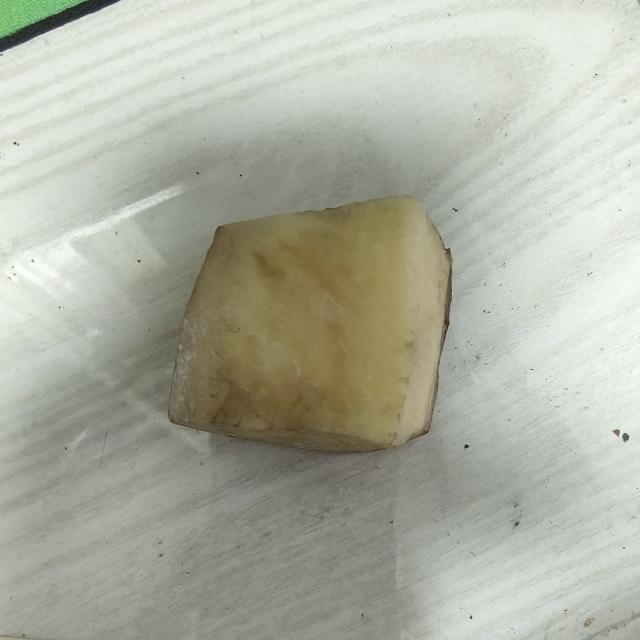-Kitchen waste - potato-: (168, 192, 462, 454)
